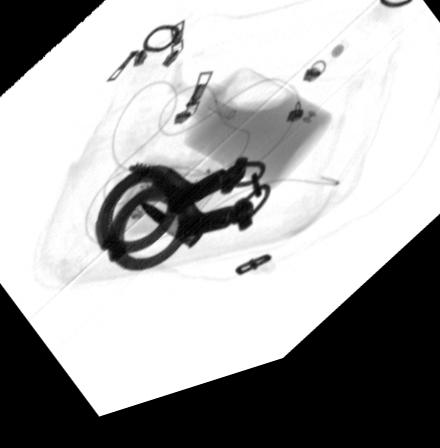Bullet: (136, 210, 203, 261)
HandCuffs: (93, 168, 267, 282)
